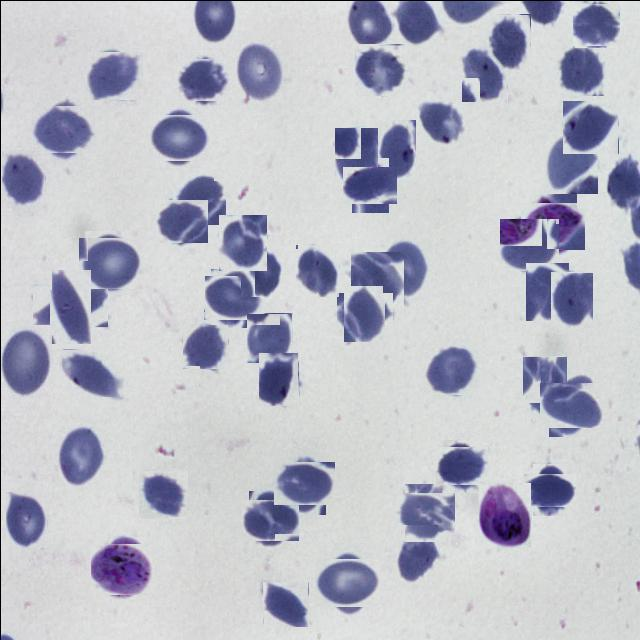red blood cell: (0, 324, 52, 397), (81, 233, 139, 291), (318, 554, 376, 612), (41, 276, 98, 334), (544, 131, 597, 193), (34, 100, 90, 156), (501, 216, 557, 272), (234, 38, 282, 103), (56, 423, 104, 487), (544, 376, 598, 432), (562, 99, 618, 153), (350, 251, 403, 307), (152, 110, 206, 164), (61, 348, 121, 396), (424, 343, 478, 396), (522, 355, 567, 418), (88, 49, 140, 102), (173, 173, 225, 226), (334, 126, 378, 188), (278, 457, 330, 509), (355, 44, 407, 96), (218, 214, 266, 270), (461, 43, 507, 101), (206, 272, 258, 323), (394, 524, 437, 584), (382, 238, 426, 296), (244, 494, 294, 544), (400, 487, 450, 537), (525, 262, 568, 320), (1, 150, 45, 206), (339, 288, 388, 338), (550, 271, 593, 327), (179, 54, 228, 103), (556, 44, 603, 95), (5, 490, 47, 547), (295, 243, 339, 296), (488, 13, 530, 68), (139, 469, 187, 517), (246, 312, 292, 362), (377, 119, 415, 179), (156, 197, 204, 244), (258, 351, 298, 405), (438, 442, 484, 488), (417, 100, 463, 146), (262, 580, 308, 626), (182, 323, 228, 368), (347, 162, 392, 208), (240, 246, 281, 296), (573, 1, 618, 46), (528, 468, 570, 510)
trophozoite: (478, 482, 530, 548), (94, 540, 152, 598), (524, 197, 580, 253)
